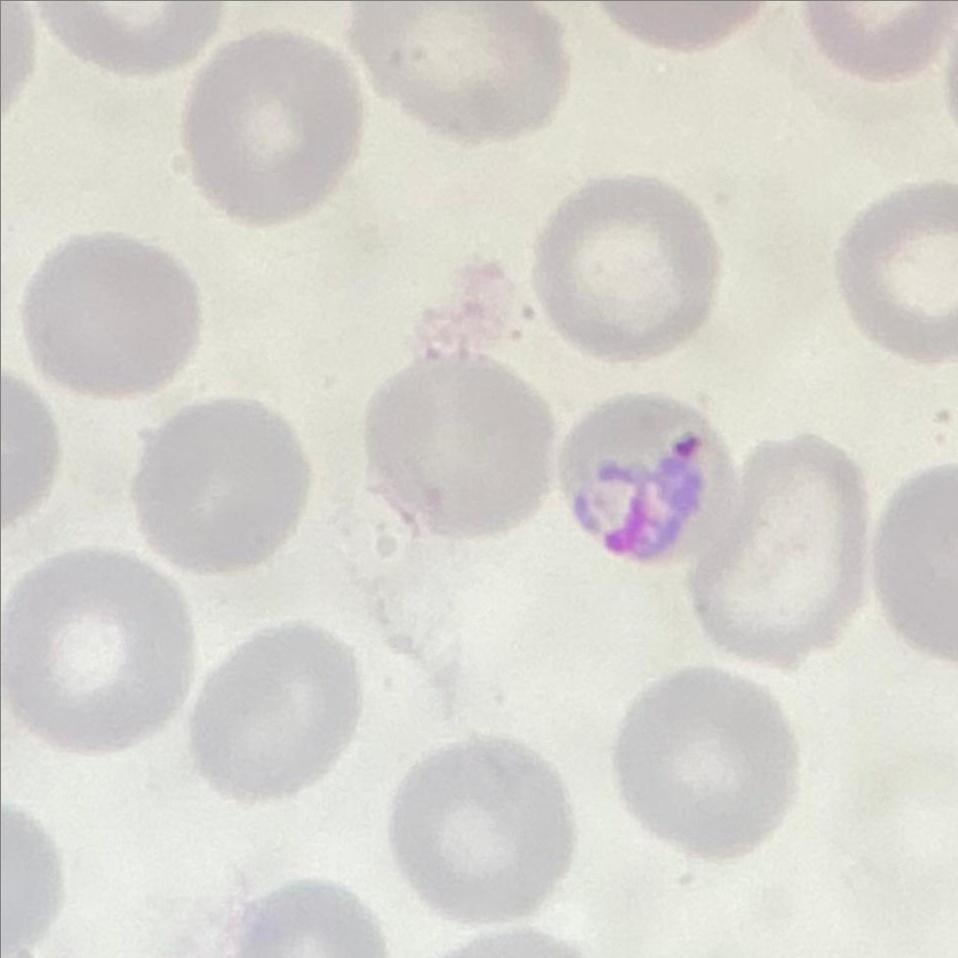Infected: (570, 394, 738, 576)
Uninfected: (698, 437, 870, 668), (3, 545, 190, 752), (617, 667, 798, 863), (185, 29, 363, 228), (393, 734, 574, 925), (368, 357, 554, 536), (537, 175, 714, 362), (195, 617, 364, 804), (350, 0, 566, 146), (137, 400, 310, 581), (23, 234, 198, 399), (843, 187, 958, 366), (873, 464, 958, 668)
